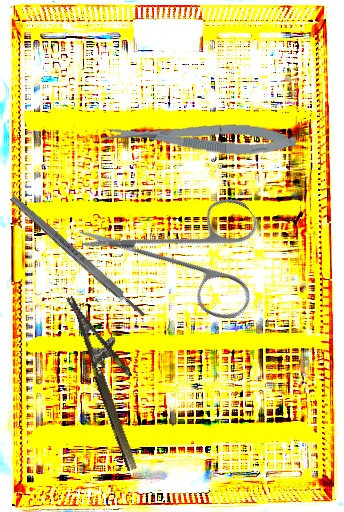Iris Scissors: (73, 140, 298, 367)
Micro Scissor: (102, 114, 297, 159)
Needle Holder: (66, 285, 161, 473)
Scalpel Handle: (8, 193, 148, 320)
